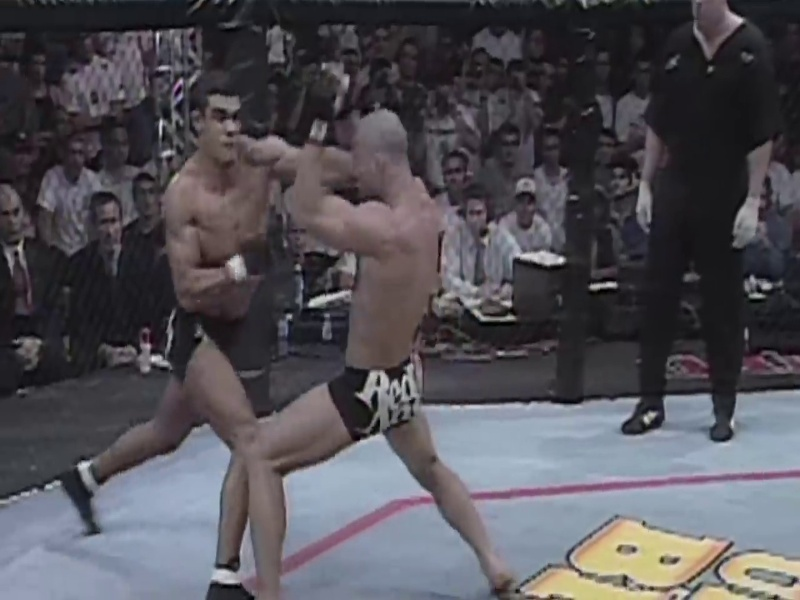fighter: (54, 44, 356, 600), (240, 54, 528, 600)
